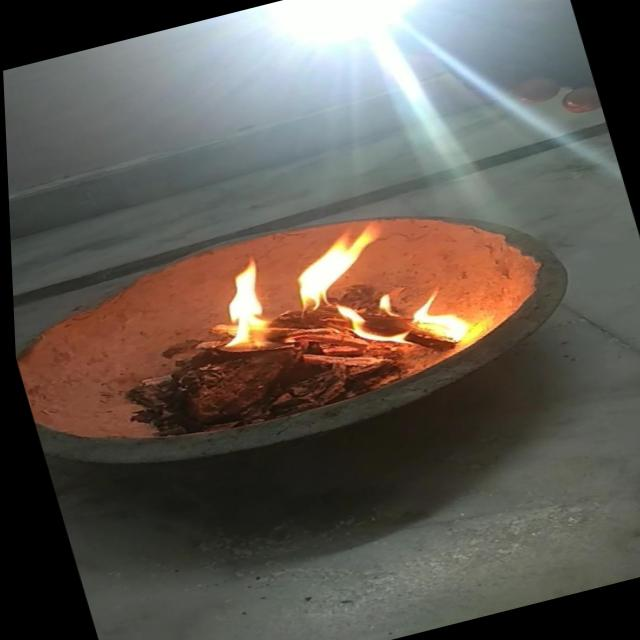fire: (270, 218, 398, 336), (178, 251, 292, 365), (384, 273, 484, 357)
